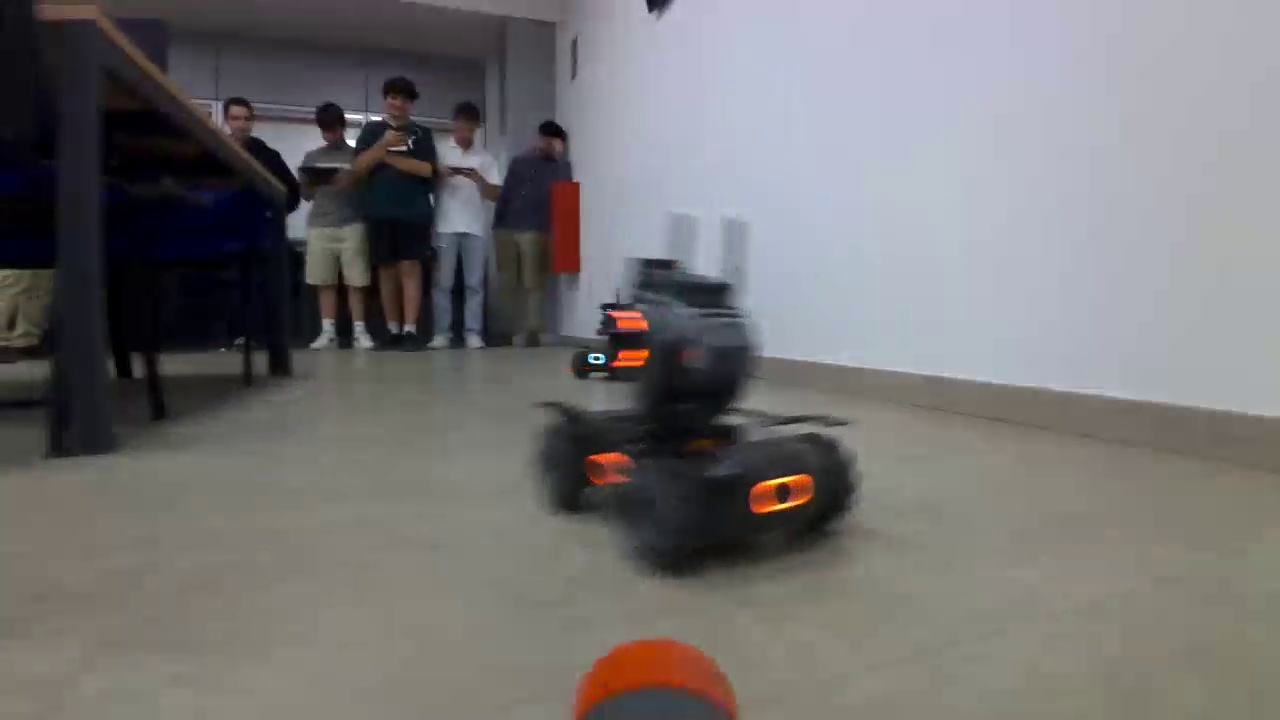robot: (530, 255, 885, 590)
